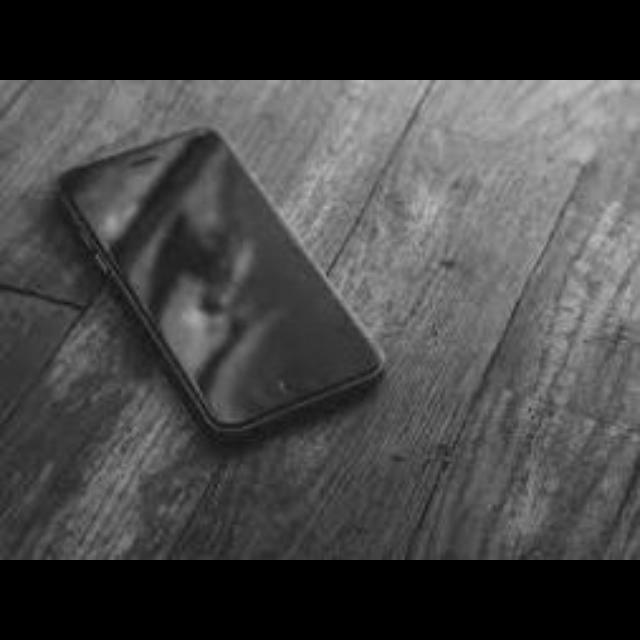fake: (40, 116, 425, 448)
